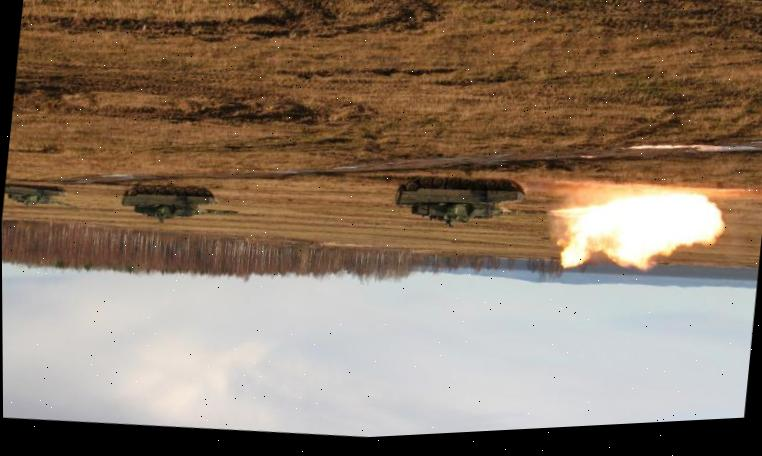tank: (389, 164, 551, 240), (118, 175, 242, 230), (2, 177, 79, 213)
